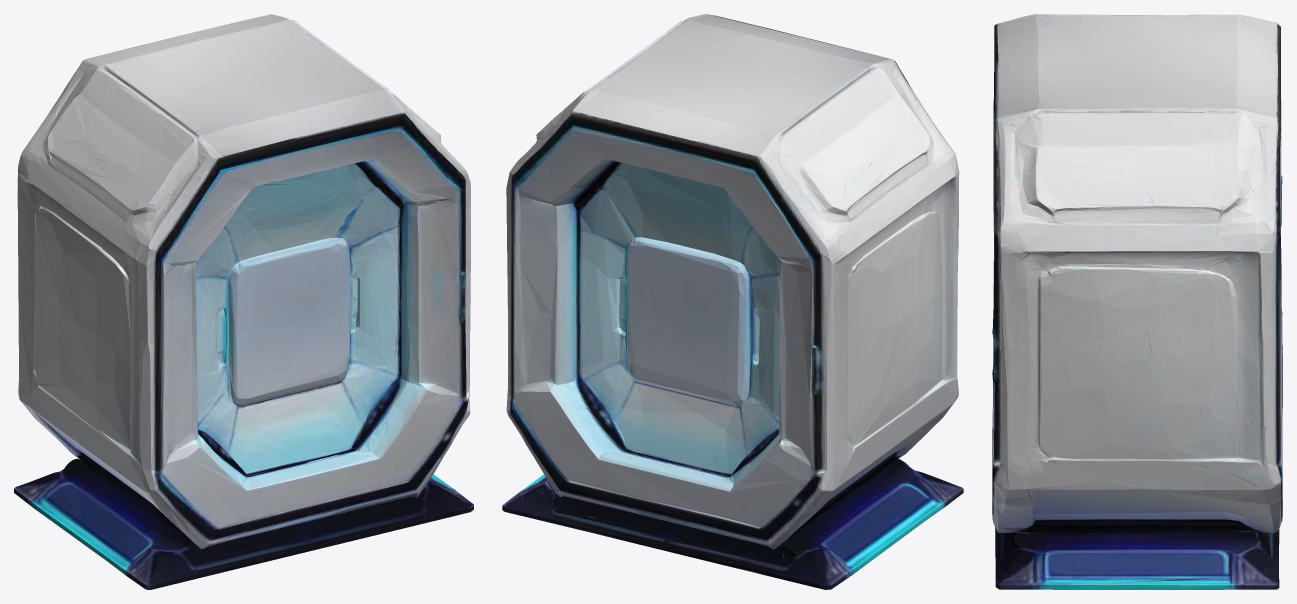
Rendered from prop_training_barrier.glb.
3 renders of one model, left to right at view 1: azimuth 30°, elevation 25°; view 2: azimuth 150°, elevation 25°; view 3: azimuth 270°, elevation 25°, orthographic. The views are drawn at different scales.
Parts seen in each view (by area): view 1: geometry_0; view 2: geometry_0; view 3: geometry_0.
Part boxes in pixels (x1,y1,x2,y2): geometry_0: (14, 14, 473, 589); geometry_0: (502, 14, 963, 589); geometry_0: (992, 14, 1282, 589).
Bounding box in the file's own units: 0.8227 × 0.9954 × 0.5899.
1 material, 1 textured.
